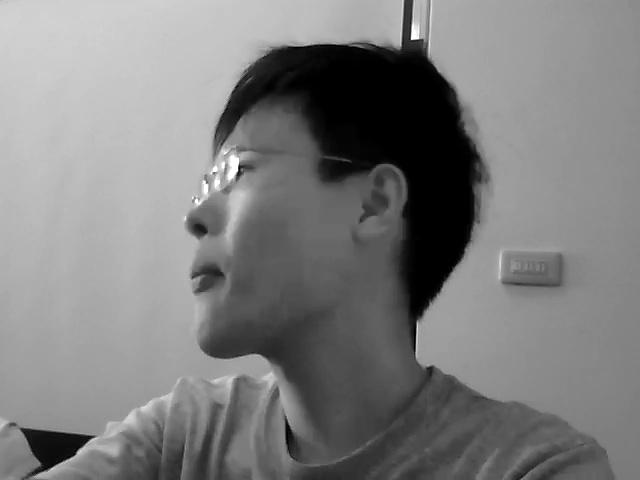eye_open: (219, 152, 256, 194)
face: (183, 99, 356, 359)
